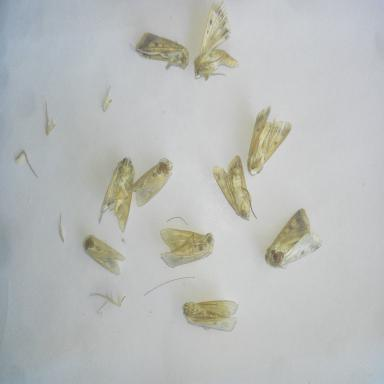abw: (188, 3, 244, 85), (263, 204, 325, 272), (209, 152, 261, 228), (245, 102, 294, 180), (94, 153, 139, 236), (126, 29, 192, 75), (156, 225, 216, 273), (128, 156, 176, 209), (77, 232, 130, 279), (180, 296, 242, 336)
